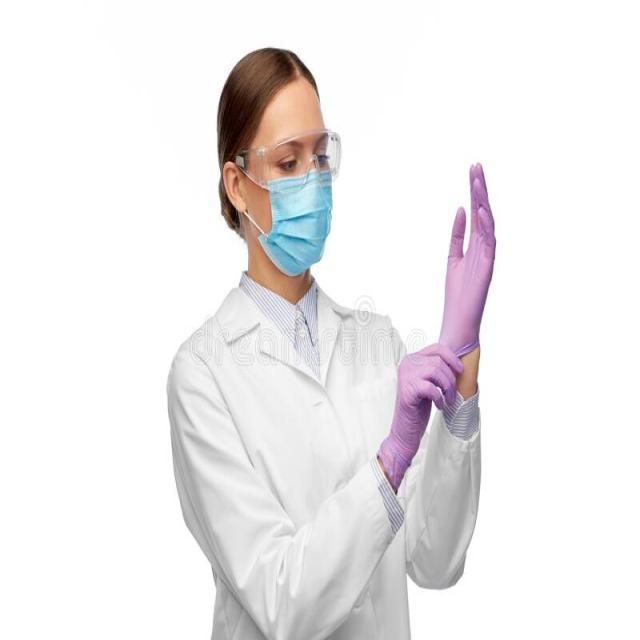Gloves: (375, 335, 467, 482), (436, 161, 498, 367)
Goggles: (219, 138, 364, 198)
Mask: (212, 151, 350, 291)
